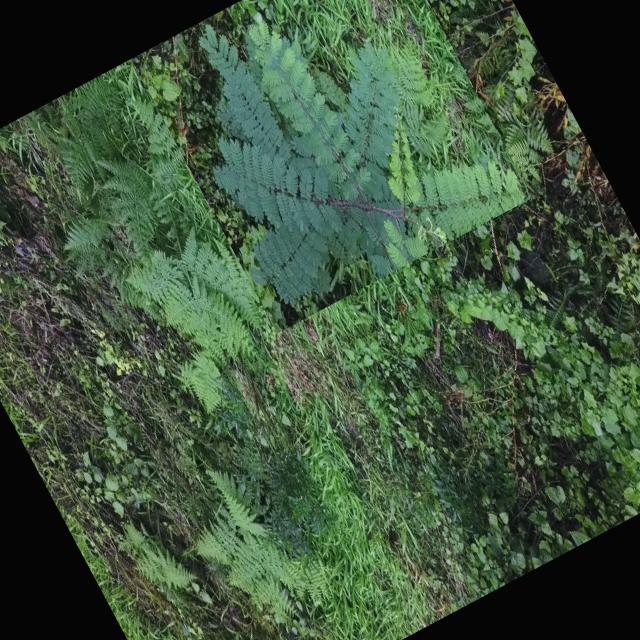Mysore-Thorn-Weed: (131, 0, 532, 332)
